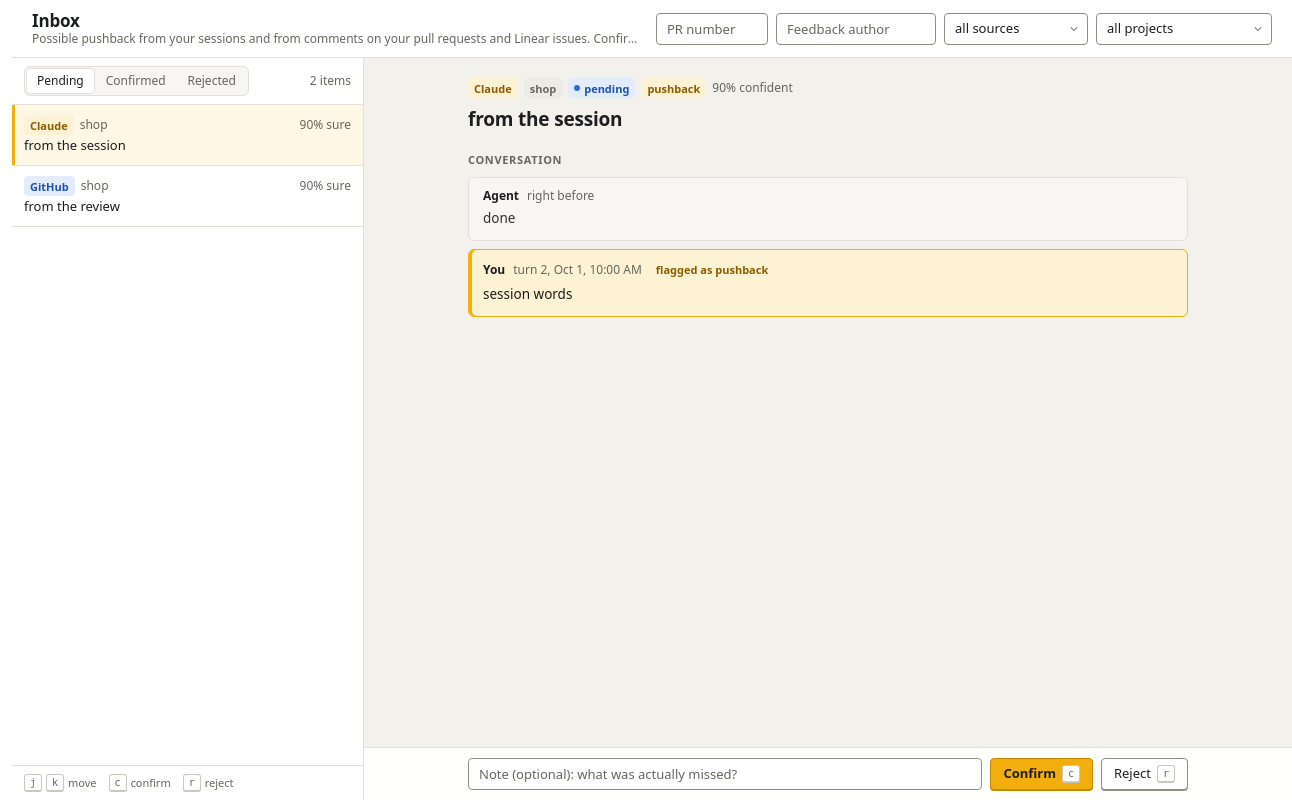
Test: each item names its source, and the list can be filtered by source
Expected: the text "from the review" is shown, [24,197,120,215]
Expected: the 2nd text "Claude" is shown, [24,115,74,135]
Select "GitHub" in the dropdown named "source": (1016,29) [944,13,1088,45]
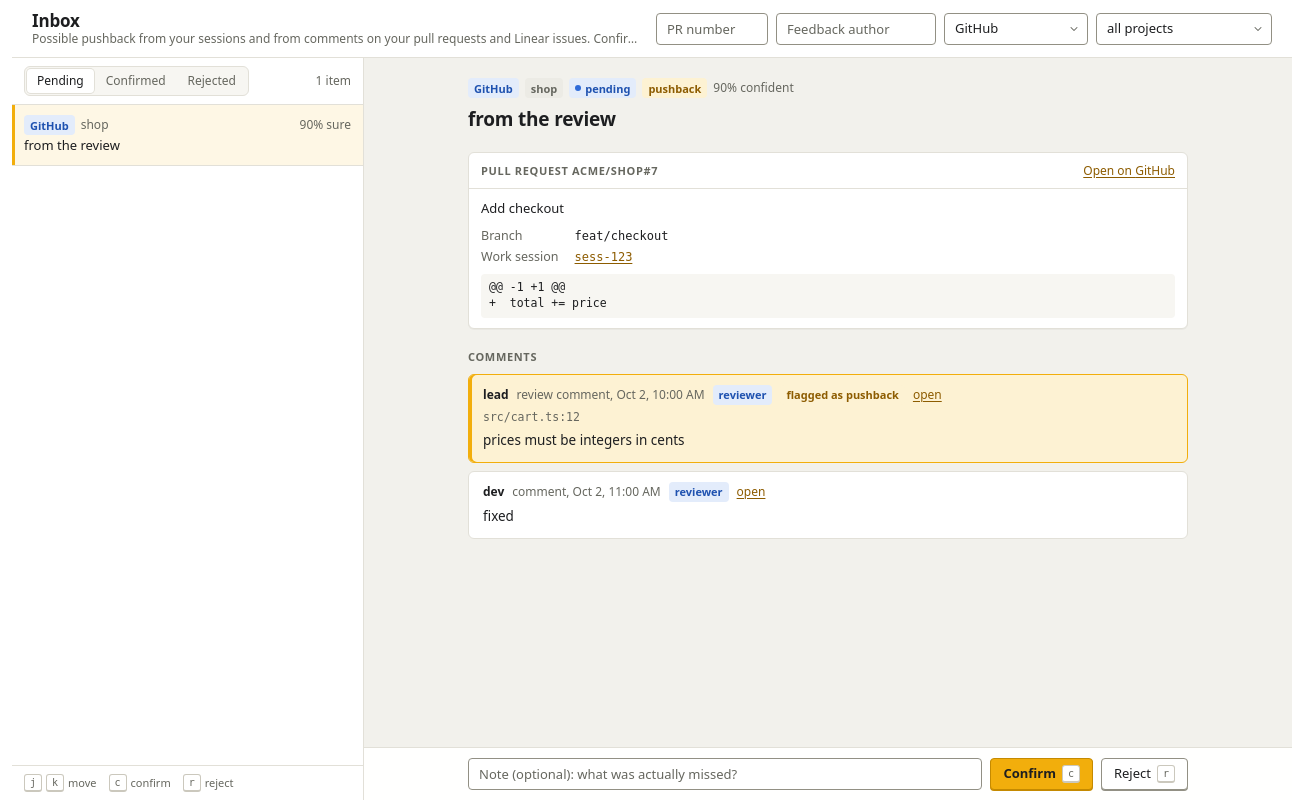
Expected: the text "from the review" is shown, [24,136,120,154]
Expected: the button "from the session" is gone
